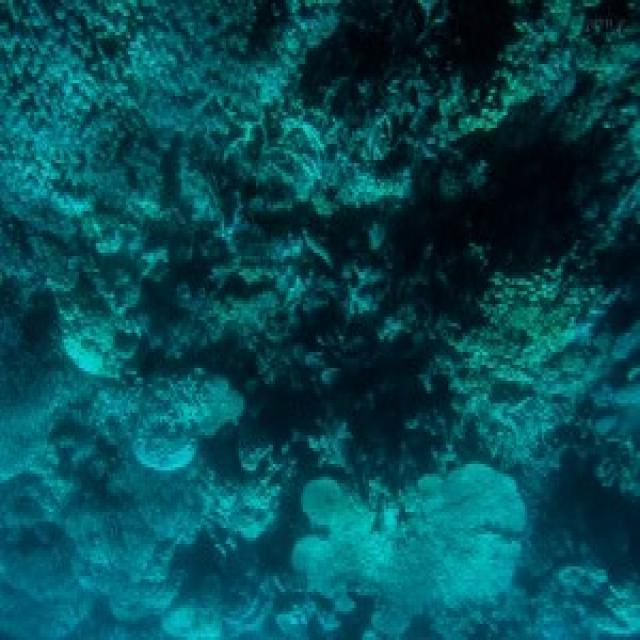Bleached: (5, 1, 408, 207), (1, 373, 246, 640), (296, 461, 529, 614), (138, 447, 287, 546), (545, 563, 640, 638), (62, 300, 135, 379)
Healthy: (374, 4, 640, 148), (439, 265, 616, 438), (174, 1, 254, 144), (93, 118, 166, 214)
